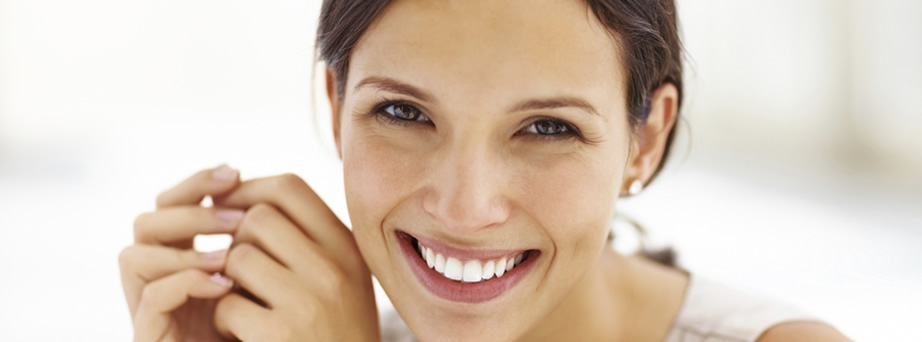shoot: (390, 226, 547, 305)
